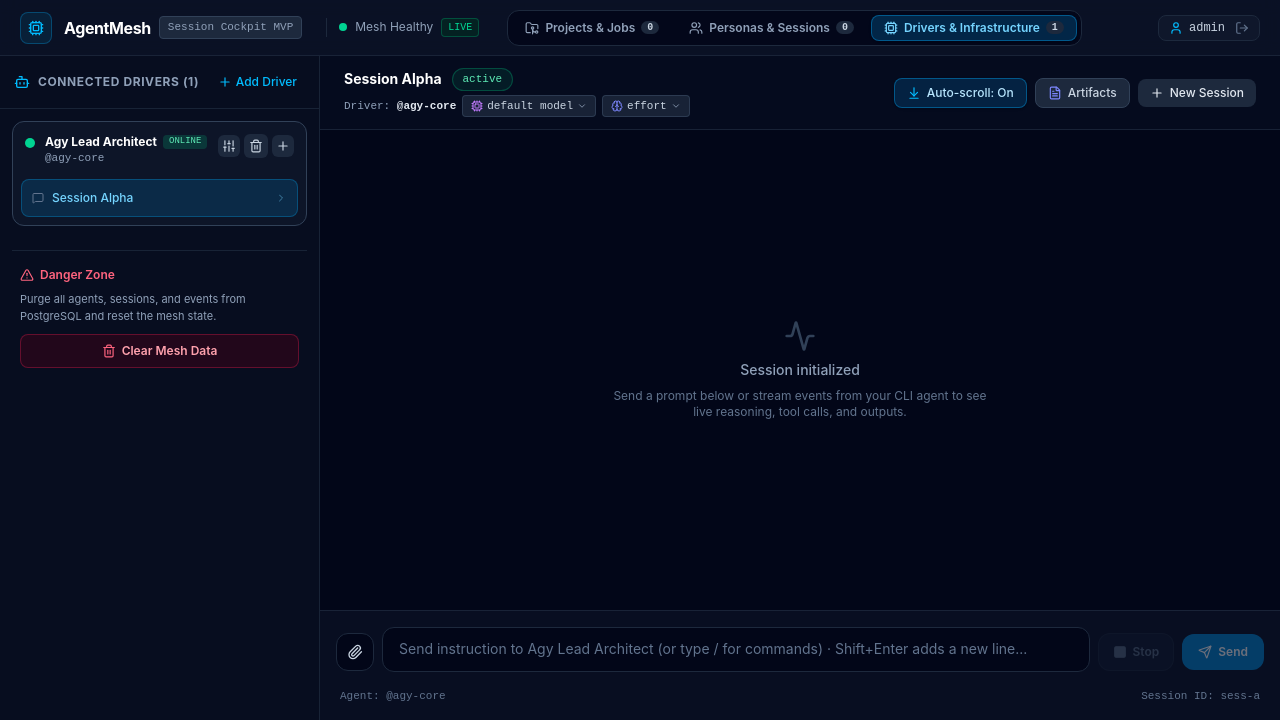
Test: Session trajectory auto-scroll to bottom › stays at the bottom when the transcript grows after the pin (async mermaid SVG)
(page scrolled)
Step 1. Click the text "Session Alpha" → (93, 198), box [52, 190, 133, 206]
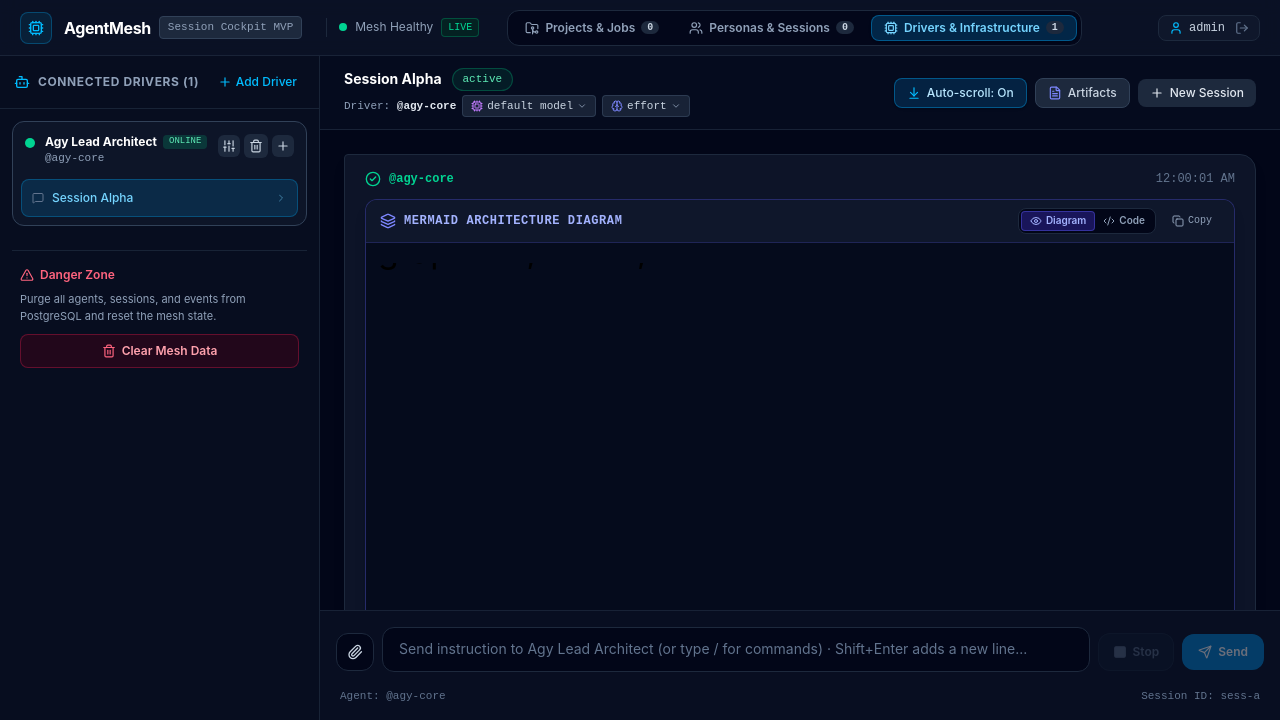
Expected: the element with test id "session-timeline" is shown, [320, 130, 1279, 610]
Expected: the element with test id "mermaid-viewer" is shown, [365, 199, 1235, 610]
Expected: the element with test id "mermaid-diagram-container" is shown, [378, 255, 1222, 610]
